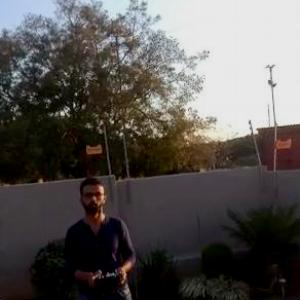follow: (61, 174, 147, 299)
